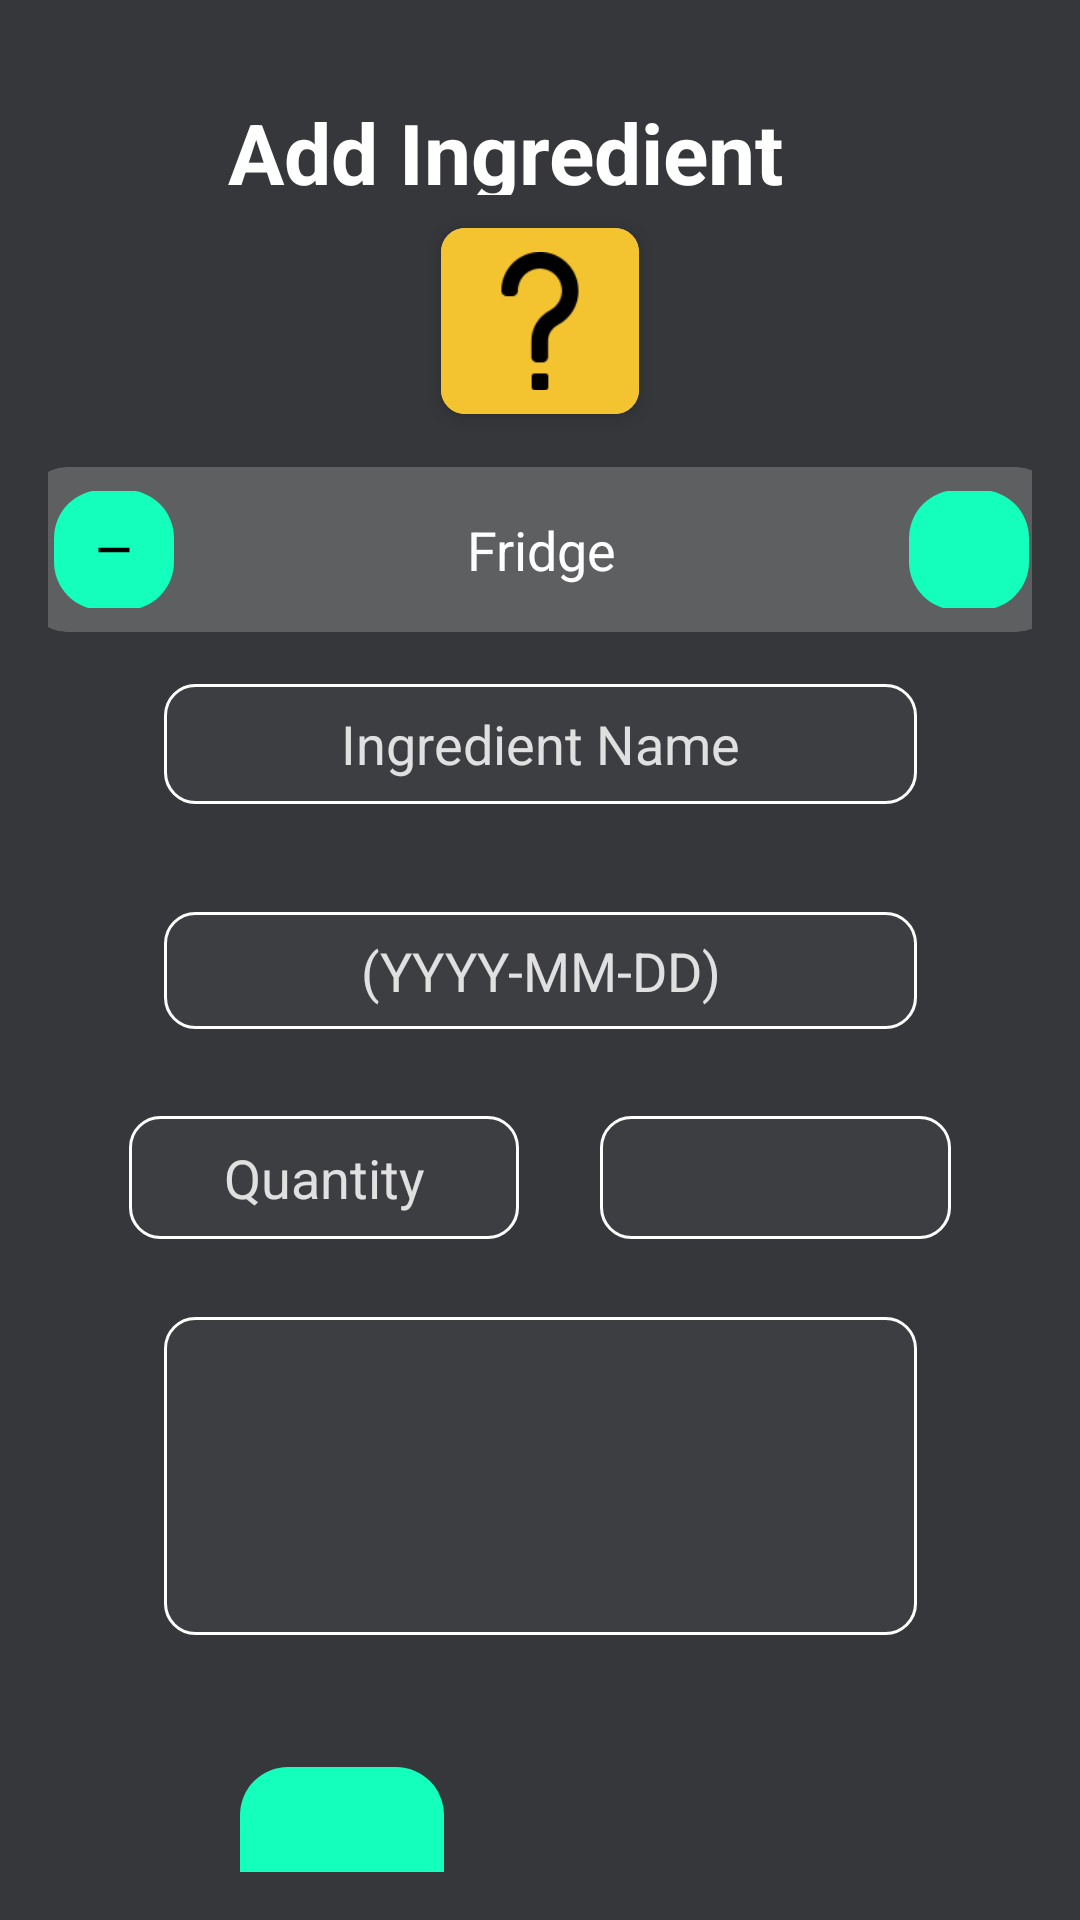

Screen size 1080w x 1920h. Icon name, then its box in pixels as bbox=(x1, y1, x2, y2):
decrease quantity: bbox=(54, 491, 174, 608)
Tap to select ingredient image: bbox=(441, 228, 639, 414)
